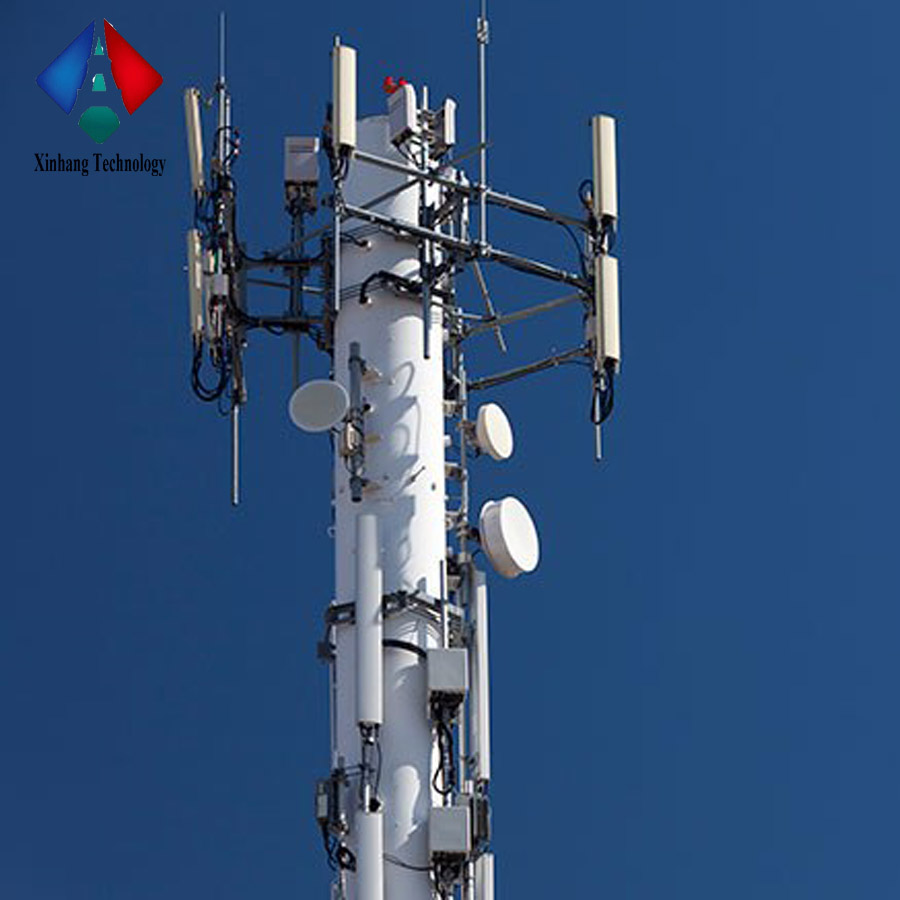a: (358, 517, 384, 730), (473, 572, 493, 780), (329, 47, 362, 148), (598, 256, 623, 360), (183, 87, 206, 194), (591, 118, 615, 218), (189, 230, 202, 330)
b: (488, 499, 536, 577), (480, 400, 515, 461)
